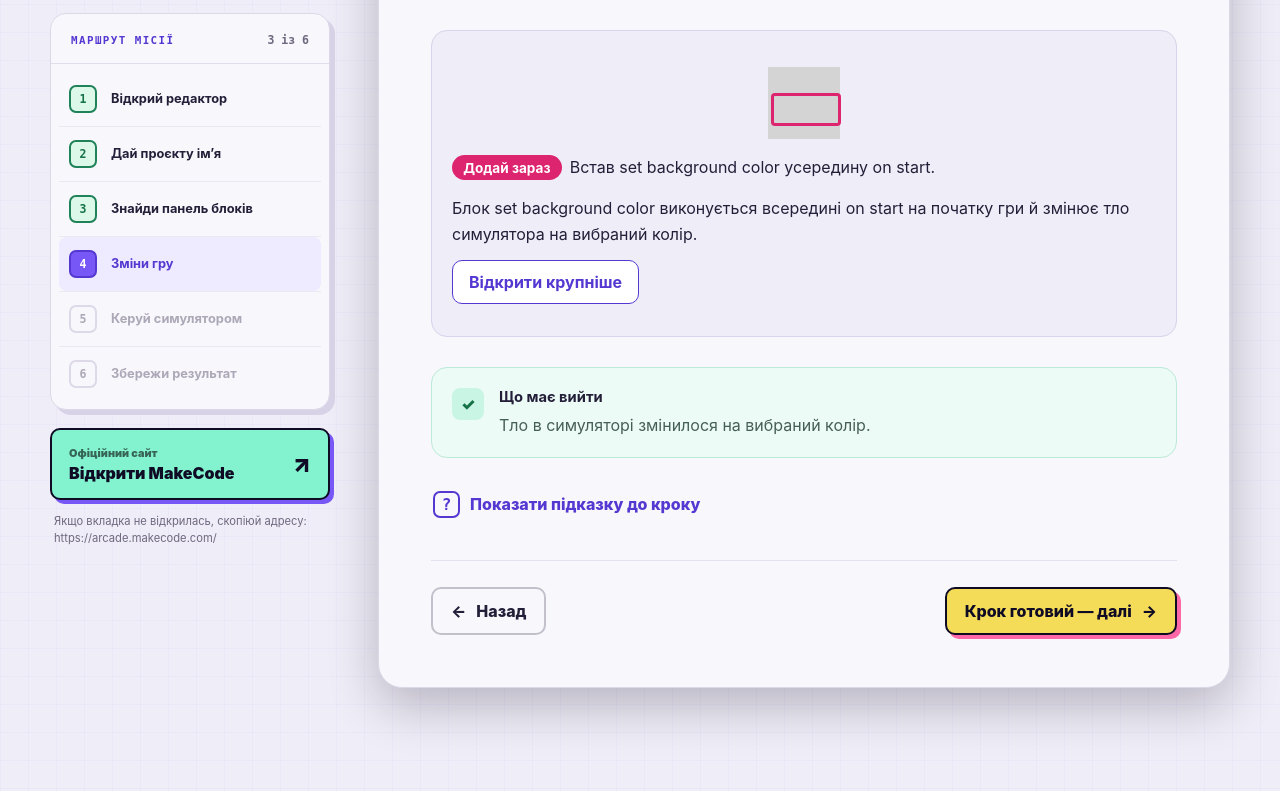
Scenario: LessonScreen › keeps a practical hint hidden until the learner asks for it
(page scrolled)
Step 1. Click the button "? Показати підказку до кроку" → (567, 504), box [431, 482, 702, 526]
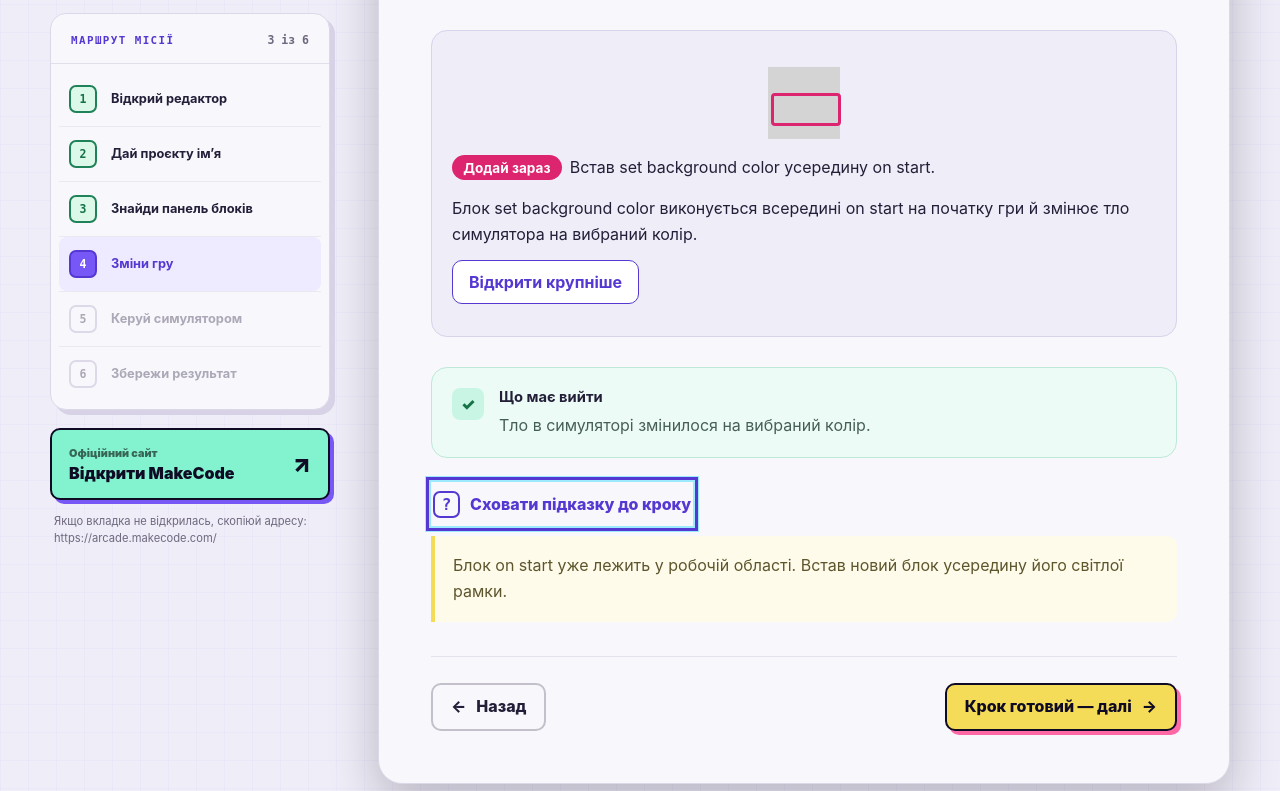
Expected: the text "Блок on start уже лежить у робочій області. Встав новий блок усередину його світлої рамки." is shown, [453, 555, 1123, 601]
